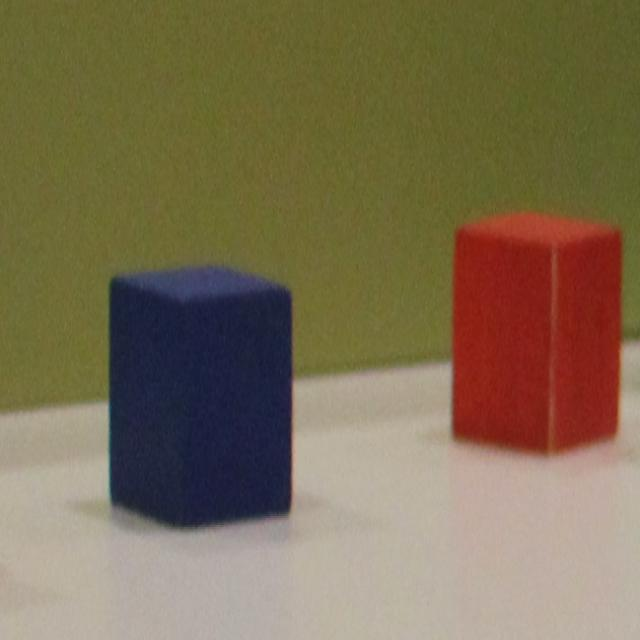bluecube: (111, 256, 293, 534)
red cube: (449, 204, 621, 447)
